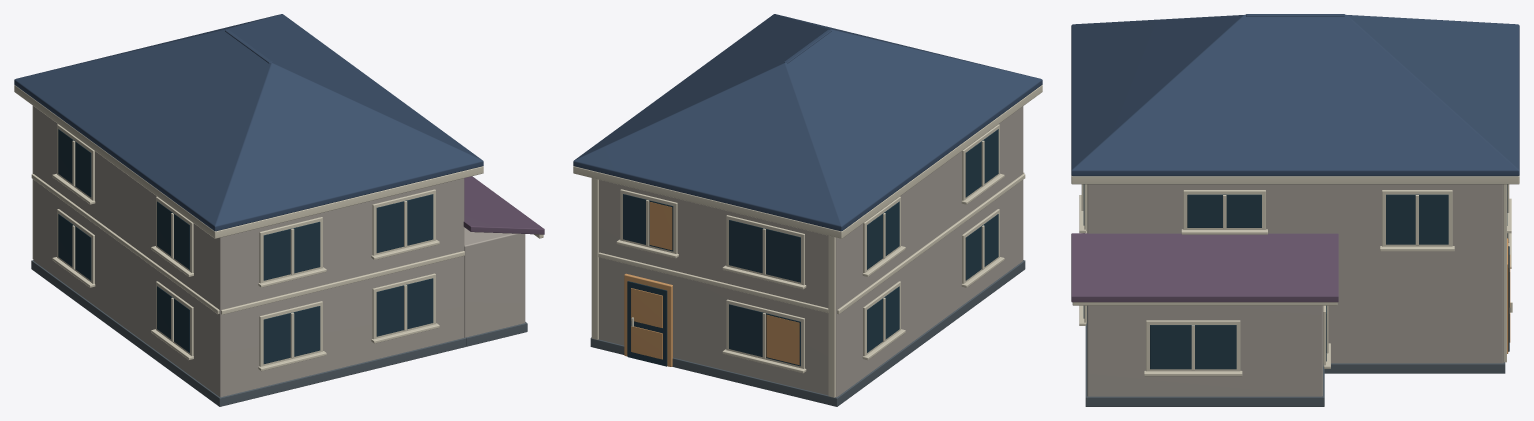
File: d02_house_family_01.glb
The picture shows the model from 3 angles, left to right: view 1: azimuth 30°, elevation 25°; view 2: azimuth 150°, elevation 25°; view 3: azimuth 270°, elevation 25°; orthographic projection. The views are drawn at different scales.
Parts seen in each view (by area): view 1: D02HouseFamily01_Mesh; view 2: D02HouseFamily01_Mesh; view 3: D02HouseFamily01_Mesh.
Boxes of the visible parts, x1=… form: D02HouseFamily01_Mesh: x1=14, y1=14, x2=544, y2=406; D02HouseFamily01_Mesh: x1=573, y1=14, x2=1042, y2=406; D02HouseFamily01_Mesh: x1=1071, y1=14, x2=1519, y2=406.
Bounding box in the file's own units: 10.8 × 8.2 × 11.4.
